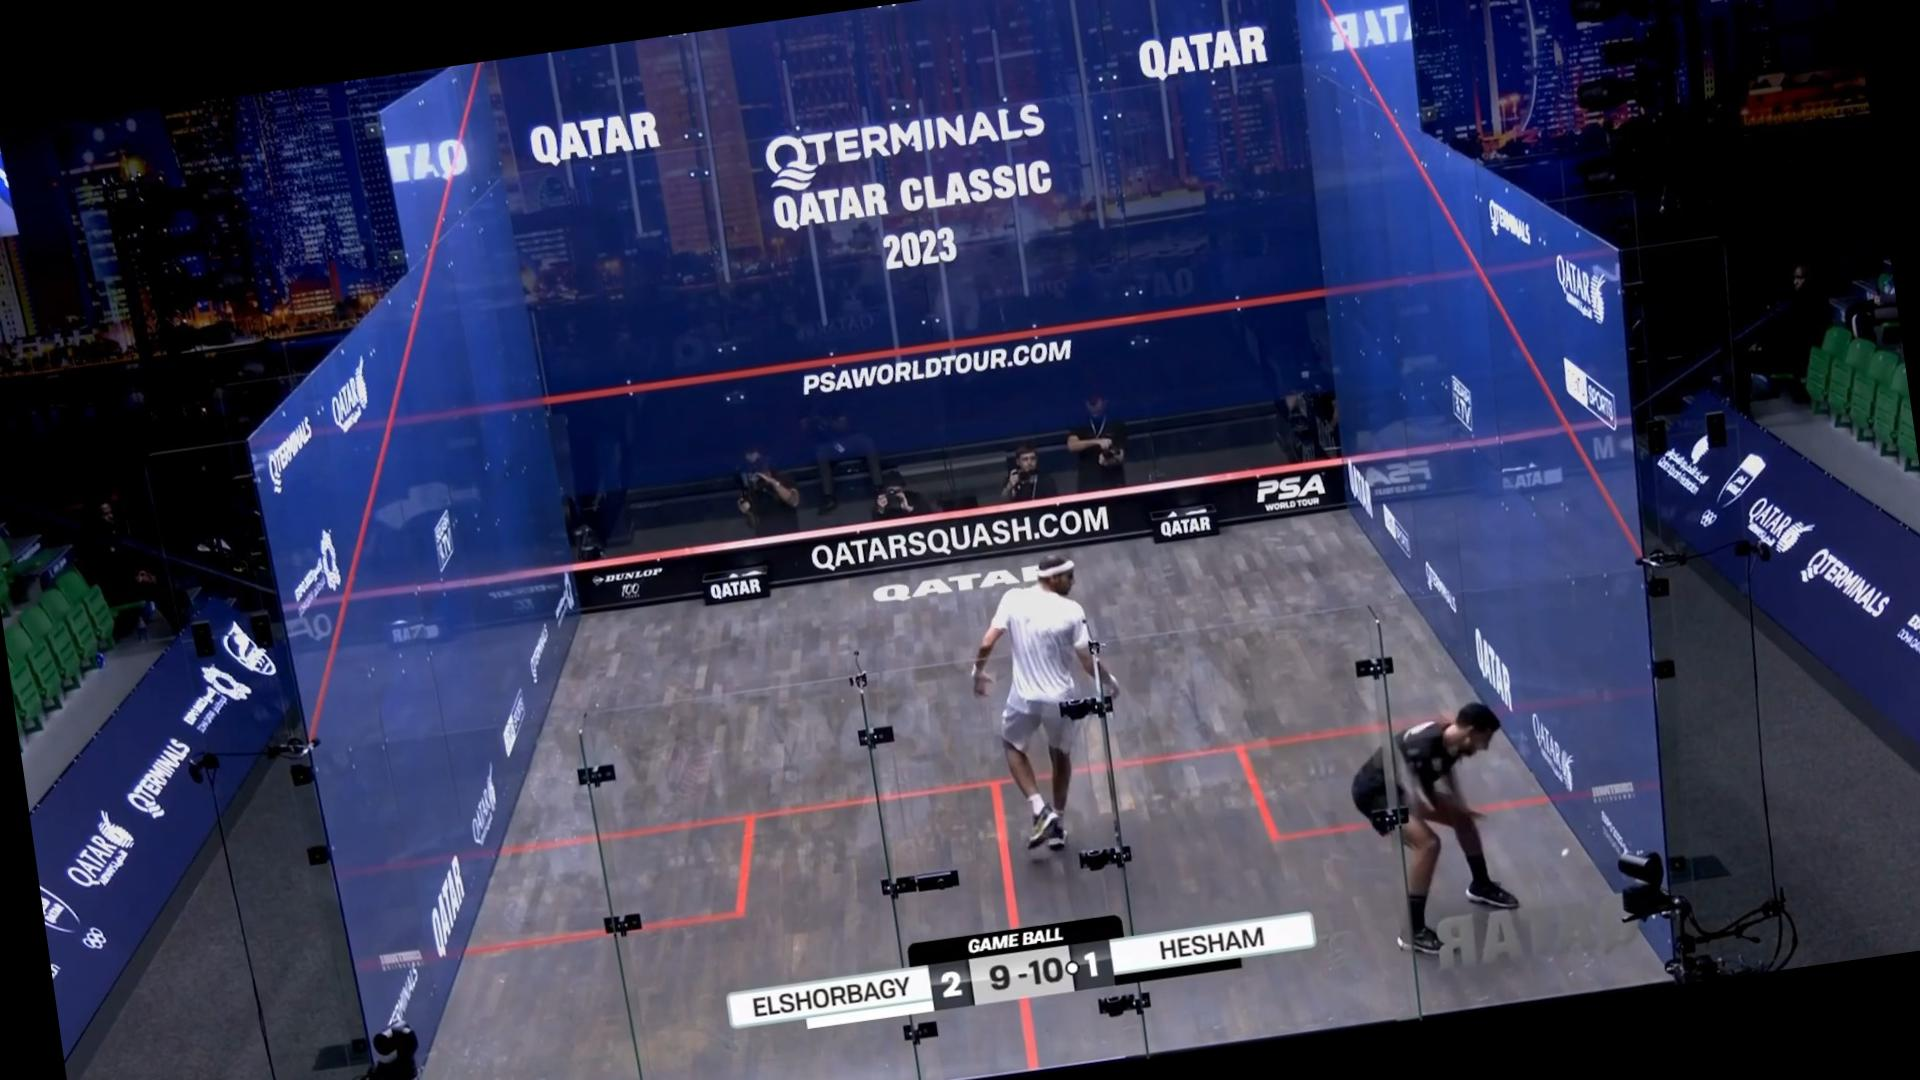Squash-Ball: (1553, 836, 1578, 869)
